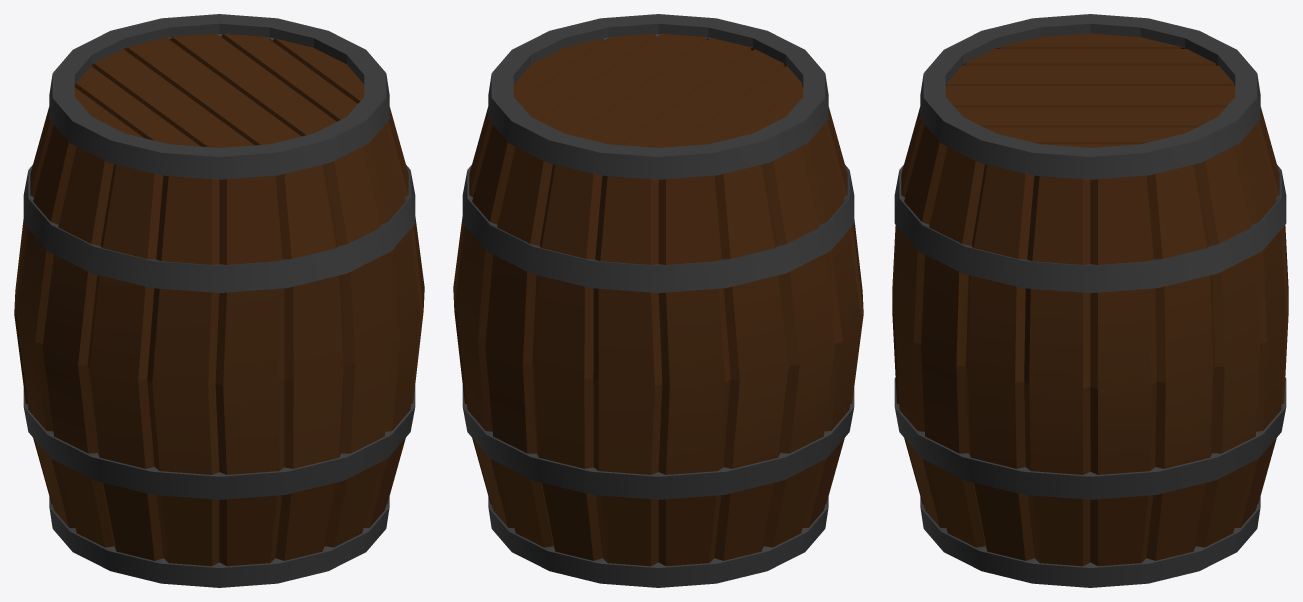
Rendered from Barrel final.FBX.
3 views of the same model, side by side, from view 1: azimuth 30°, elevation 25°; view 2: azimuth 150°, elevation 25°; view 3: azimuth 270°, elevation 25° (orthographic).
Visible parts, largest first — view 1: Barrel, Barrell rings; view 2: Barrel, Barrell rings; view 3: Barrel, Barrell rings.
Part boxes in pixels (x1,y1,x2,y2): Barrel: (14, 33, 424, 566); Barrell rings: (23, 14, 415, 587); Barrel: (453, 33, 863, 566); Barrell rings: (462, 14, 854, 587); Barrel: (892, 33, 1288, 566); Barrell rings: (894, 14, 1286, 587).
Size of the model in its own units: 77.37 by 88.11 by 73.46.
